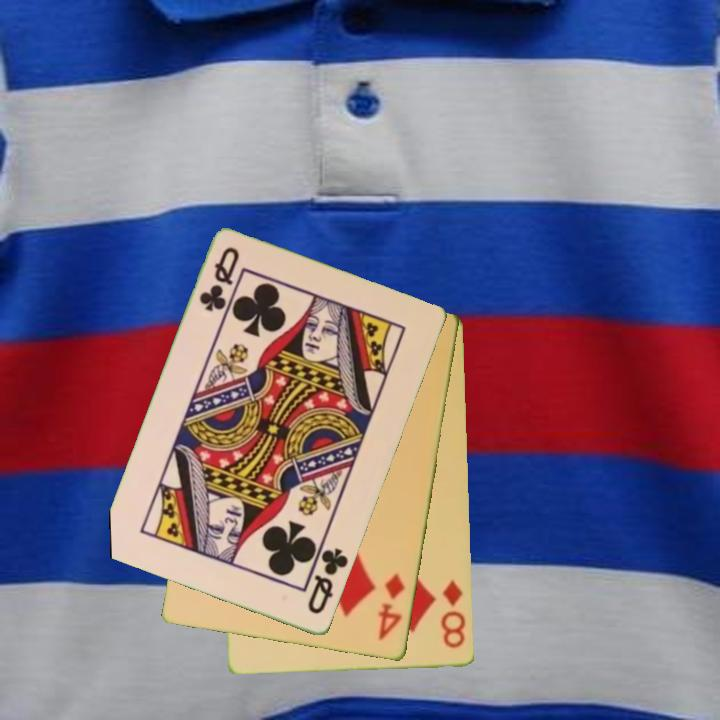4d: (375, 570, 409, 644)
8d: (438, 577, 469, 651)
Qc: (302, 538, 352, 618), (195, 243, 243, 315)
